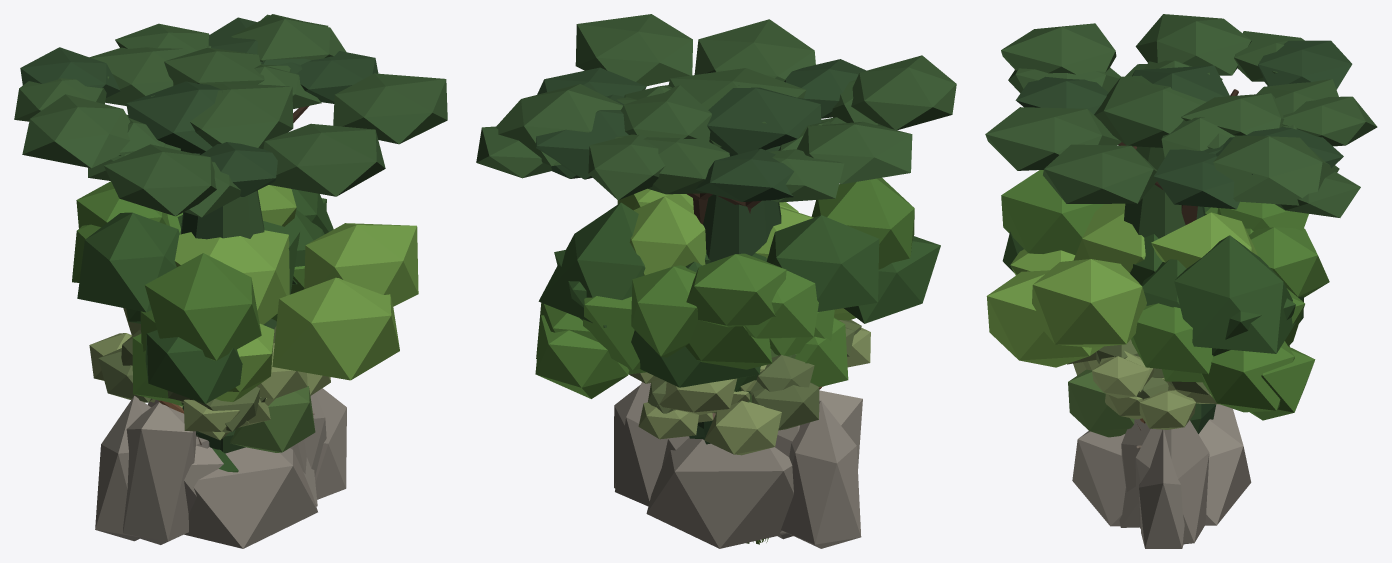
Rendered from Nature_Kit.glb.
The picture shows the model from 3 angles, left to right: view 1: azimuth 30°, elevation 25°; view 2: azimuth 150°, elevation 25°; view 3: azimuth 270°, elevation 25°; orthographic projection. The views are drawn at different scales.
Parts seen in each view (by area): view 1: Tree_Oak_A, Tree_Pine_A, Tree_Pine_B, Tree_Oak_B, Cliff_B, Rock_Large_B, Cliff_A, Tree_Olive_A, Tree_Laurel, Tree_Cypress_B, Tree_Olive_C, Rock_Large_A (+1 smaller); view 2: Tree_Pine_A, Tree_Pine_B, Tree_Oak_A, Tree_Oak_B, Rock_Large_B, Cliff_A, Tree_Olive_A, Cliff_B, Tree_Cypress_B, Tree_Olive_C, Tree_Olive_B; view 3: Tree_Pine_B, Tree_Oak_B, Tree_Pine_A, Tree_Oak_A, Rock_Large_B, Cliff_B, Cliff_A, Tree_Olive_C, Tree_Olive_A, Tree_Cypress_B, Tree_Laurel, Rock_Large_A (+2 smaller).
Boxes of the visible parts, x1,y1,x2,y2 form: Tree_Oak_A: (72,181,399,413); Tree_Pine_A: (14,47,385,216); Tree_Pine_B: (89,14,447,217); Tree_Oak_B: (126,189,418,403); Cliff_B: (123,393,326,544); Rock_Large_B: (184,447,317,548); Cliff_A: (95,388,346,541); Tree_Olive_A: (89,330,270,432); Tree_Laurel: (181,386,315,452); Tree_Cypress_B: (180,190,276,453); Tree_Olive_C: (123,308,330,440); Rock_Large_A: (184,445,317,513); Tree_Pine_A: (551,19,956,213); Tree_Pine_B: (476,14,888,224); Tree_Oak_A: (536,177,914,389); Tree_Oak_B: (535,188,940,398); Rock_Large_B: (646,437,793,548); Cliff_A: (614,385,861,548); Tree_Olive_A: (704,320,861,455); Cliff_B: (615,382,862,539); Tree_Cypress_B: (692,85,781,439); Tree_Olive_C: (657,327,870,414); Tree_Olive_B: (629,372,716,439); Tree_Pine_B: (1008,67,1377,224); Tree_Oak_B: (1002,203,1329,420); Tree_Pine_A: (985,14,1352,170); Tree_Oak_A: (986,170,1308,423); Rock_Large_B: (1072,404,1251,526); Cliff_B: (1121,419,1209,544); Cliff_A: (1139,429,1184,548); Tree_Olive_C: (1083,339,1195,429); Tree_Olive_A: (1073,346,1289,399); Tree_Cypress_B: (1124,87,1210,432); Tree_Laurel: (1068,369,1134,437); Rock_Large_A: (1119,486,1139,527).
Size of the model in its own units: 5.83 by 6.63 by 5.39.
